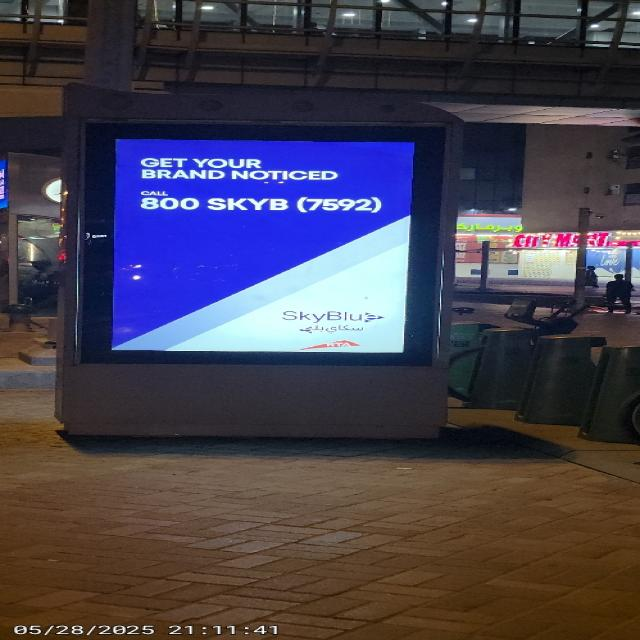mupi: (72, 87, 454, 439)
